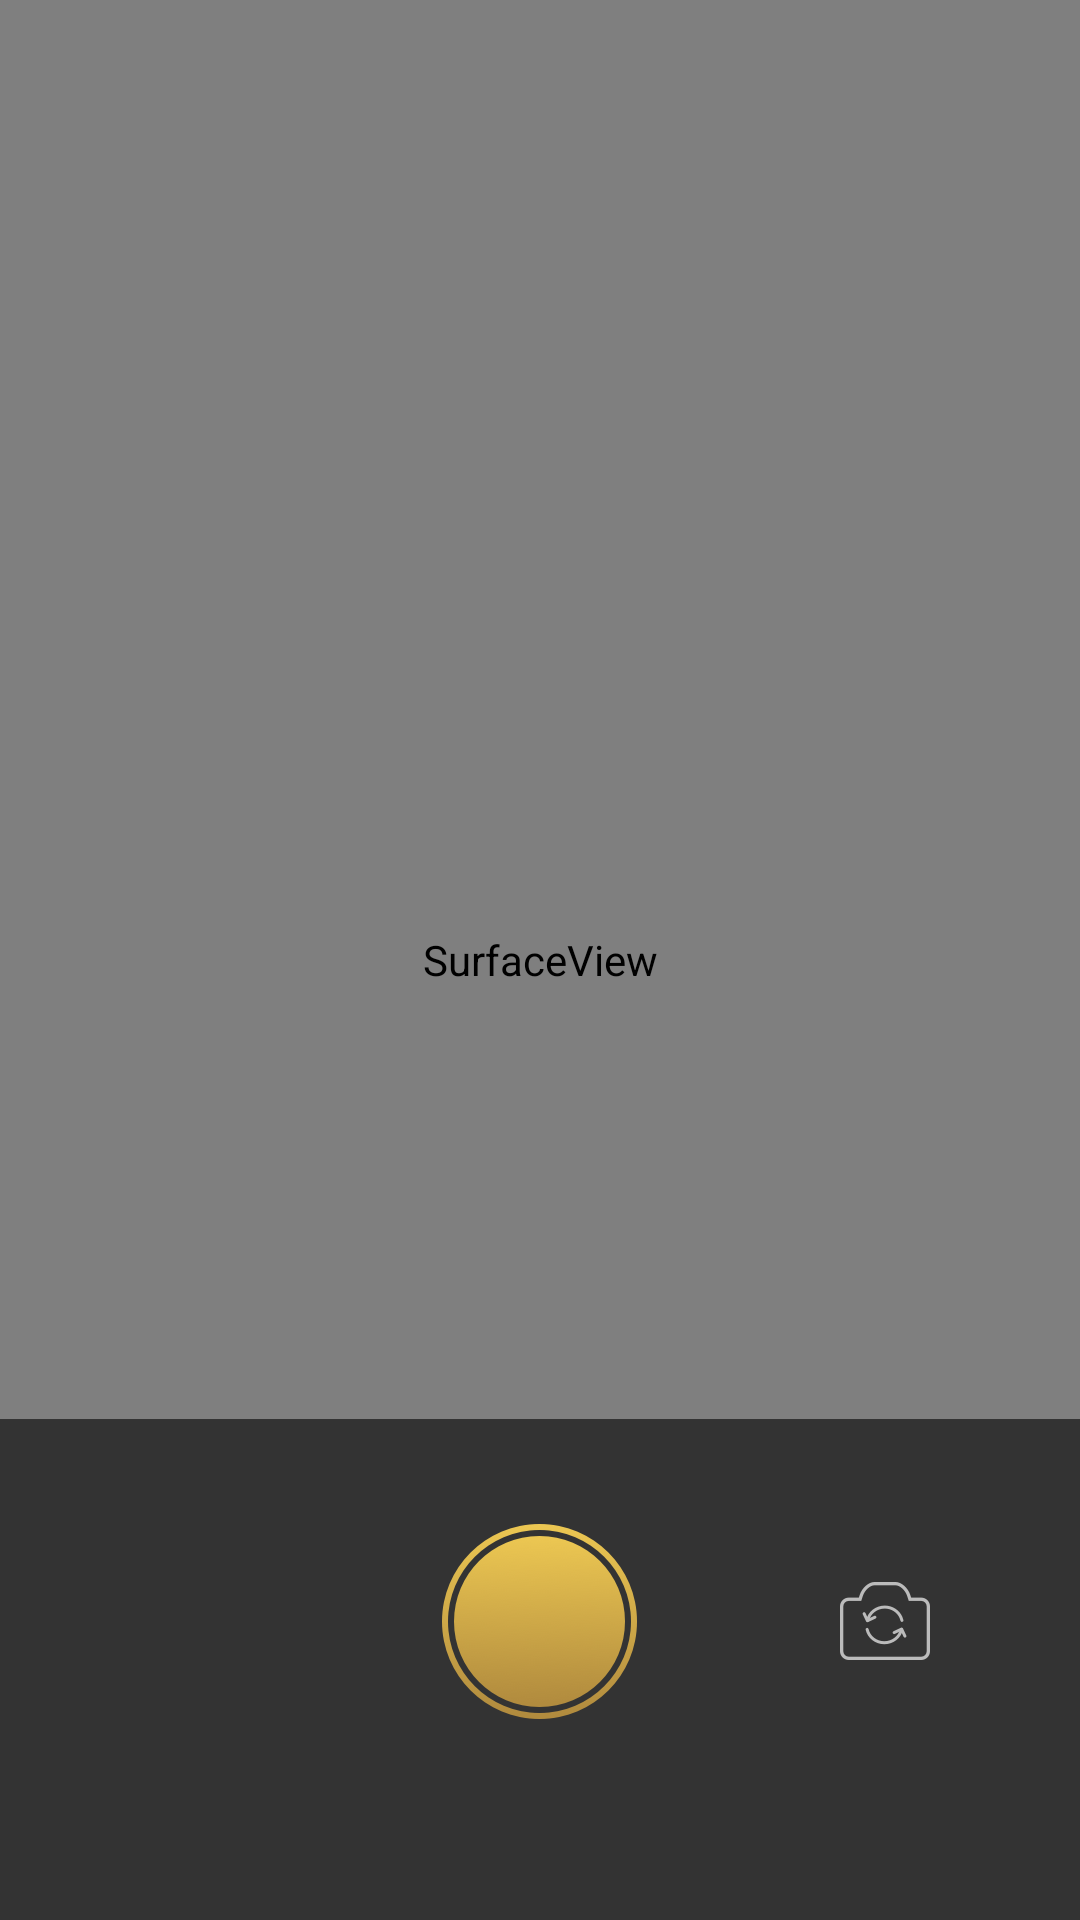

Screen size 1080 x 1920. Icon name, then its box in pixels as (x1, y1, x2, y2):
capture: (442, 1524, 637, 1719)
reverse camera: (840, 1582, 930, 1660)
